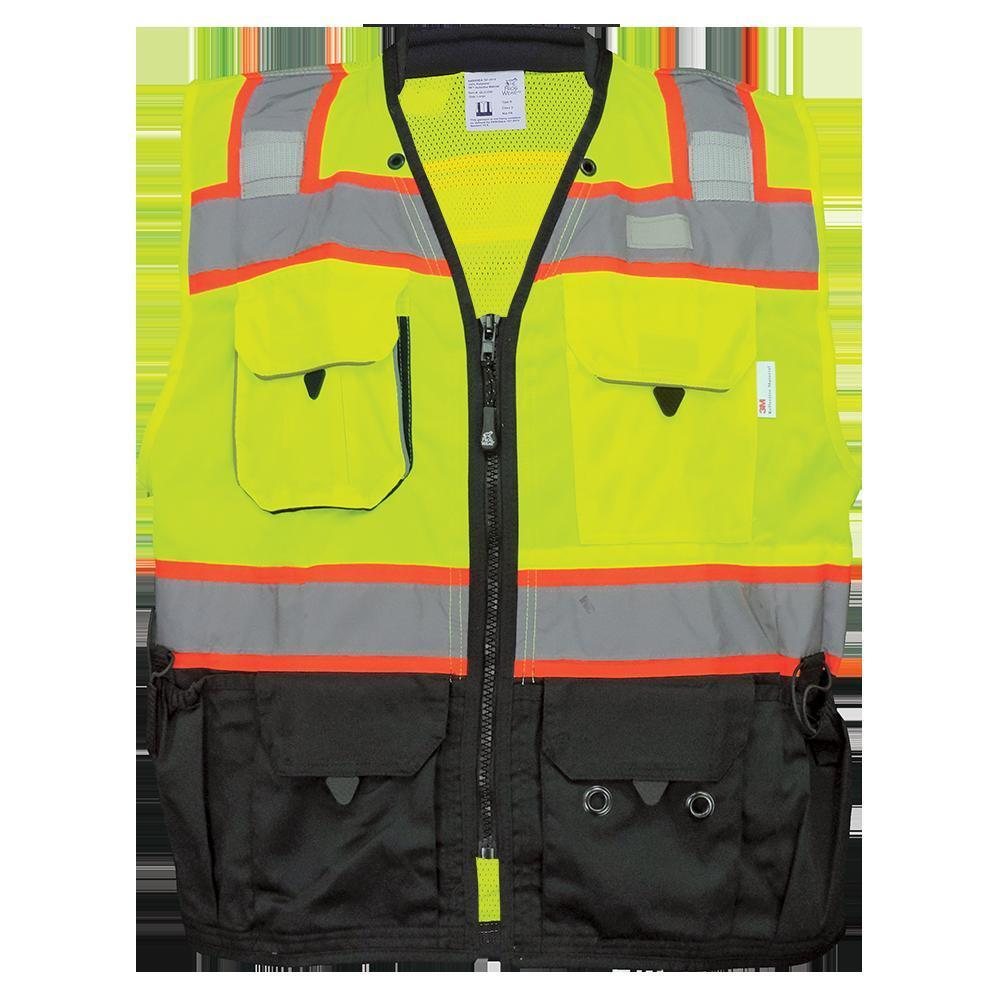vest: (145, 28, 854, 957)
